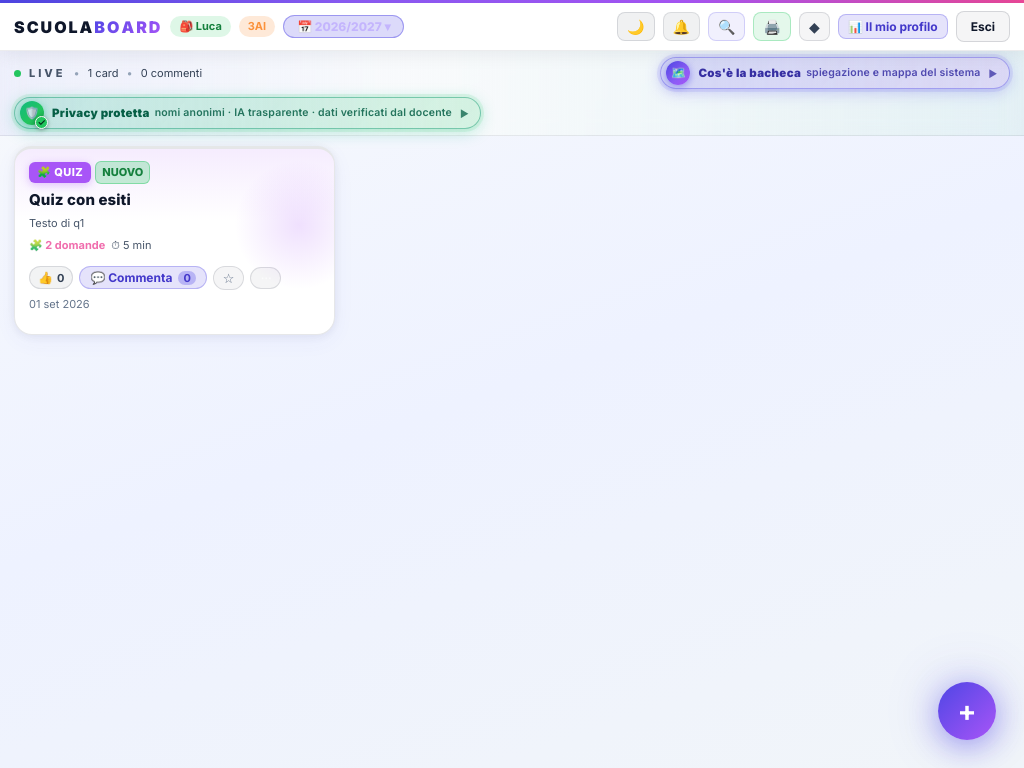
Scenario: Quiz interattivo (studente) › dopo il completamento lo studente vede l'esito giusto/sbagliato e la valutazione AI del prof
Click the text "Quiz con esiti" at (80, 199), box [29,190,131,208]
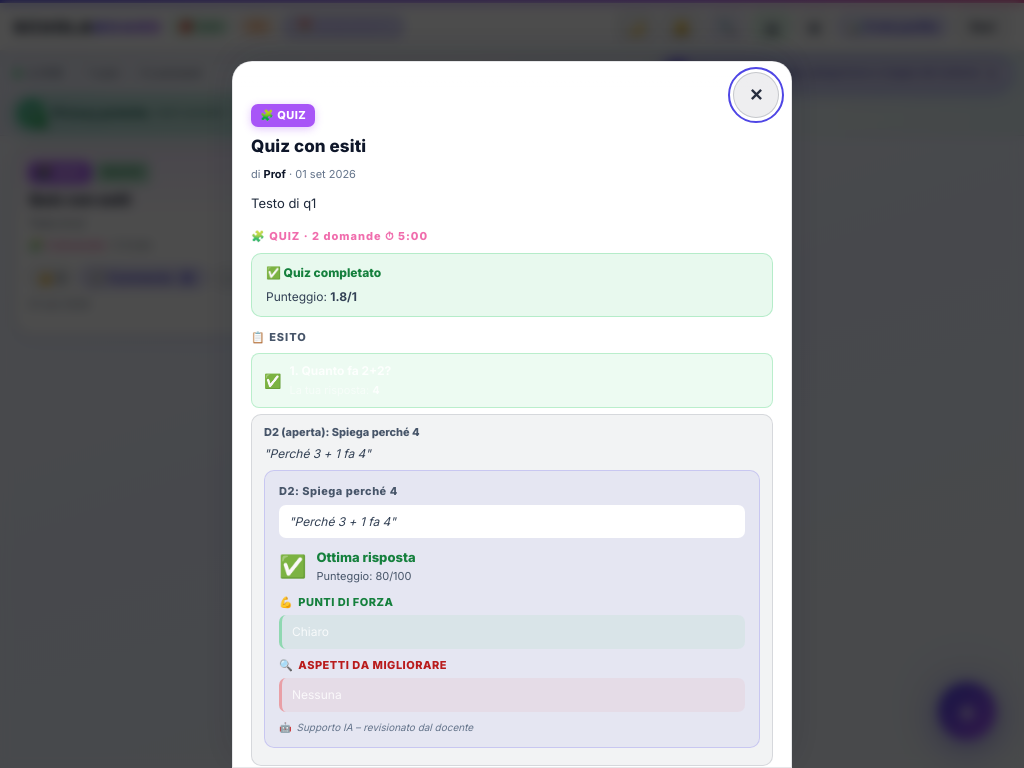
Expected: the text "✅ Quiz completato" is shown, [266,265,381,280]
Expected: the text "Chiaro" is shown, [279,615,745,649]
